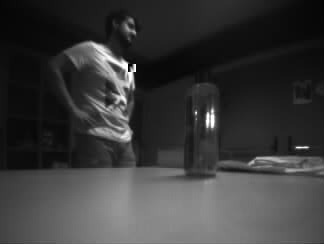Tin can: (185, 83, 217, 176)
